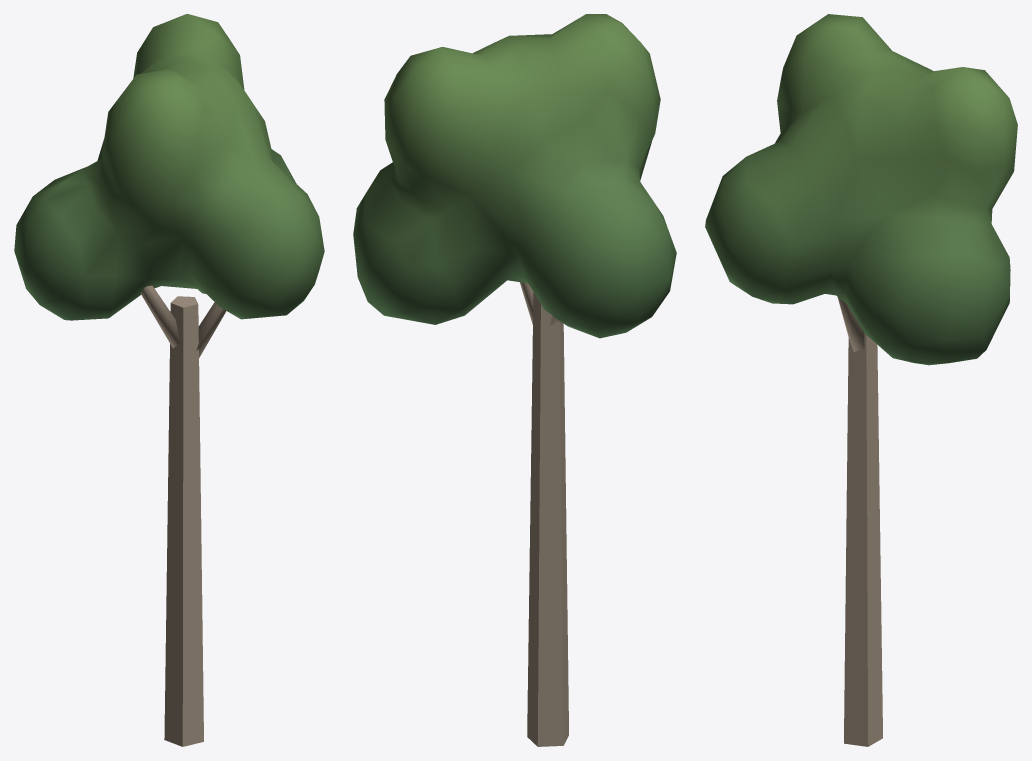
The model's file is street-young-crown.glb.
The picture shows the model from 3 angles, left to right: view 1: azimuth 30°, elevation 25°; view 2: azimuth 150°, elevation 25°; view 3: azimuth 270°, elevation 25°; orthographic projection. The views are drawn at different scales.
Visible parts, largest first — view 1: street-young-crown, trunk, young-fork-tips; view 2: street-young-crown, trunk; view 3: street-young-crown, trunk, young-fork-tips.
Boxes of the visible parts, <box> form: street-young-crown: <box>14,14,324,320</box>; trunk: <box>164,296,203,746</box>; young-fork-tips: <box>141,285,226,357</box>; street-young-crown: <box>353,14,676,338</box>; trunk: <box>527,292,568,746</box>; street-young-crown: <box>705,14,1017,365</box>; trunk: <box>844,333,882,746</box>; young-fork-tips: <box>837,297,864,351</box>.
Size of the model in its own units: 1.52 by 3.57 by 1.45.
